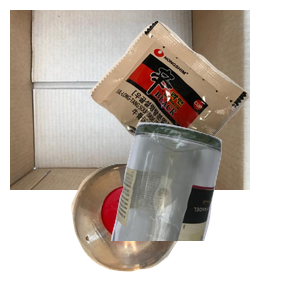cardboard: (10, 10, 250, 190)
glass: (109, 120, 300, 300)
plastic: (69, 161, 245, 300)
trash: (86, 18, 300, 194)
